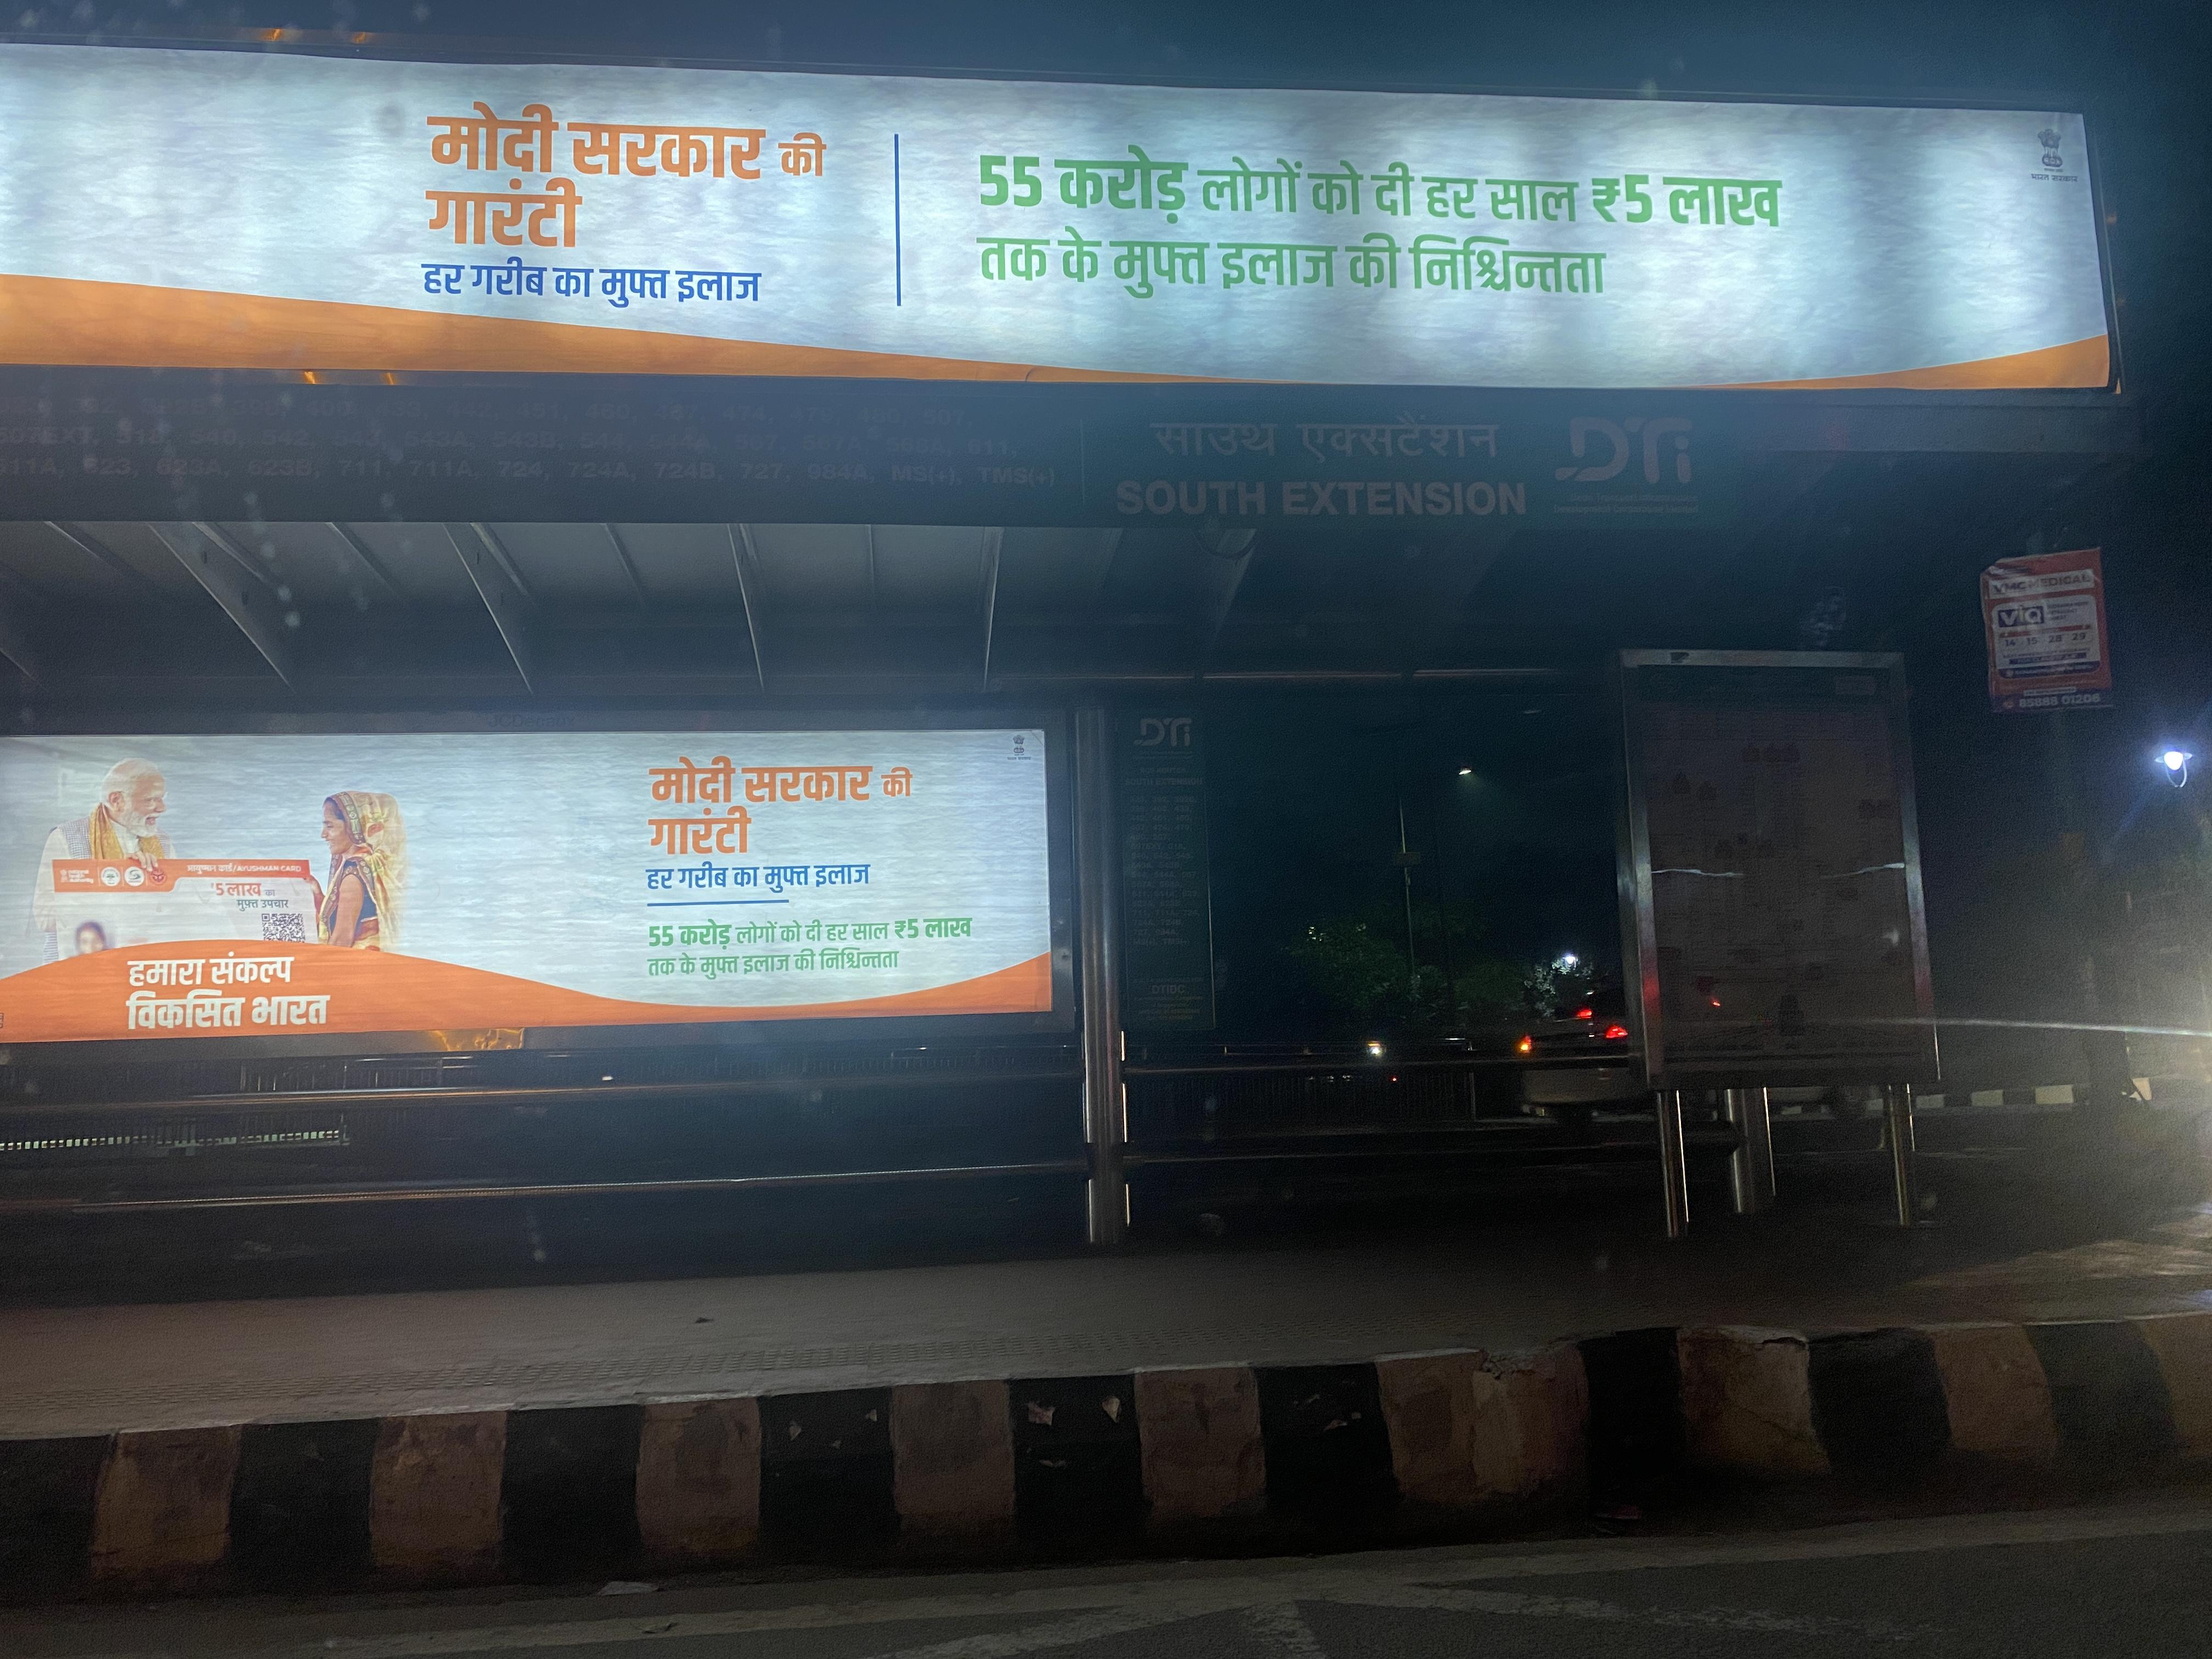Bus-stop-board: (0, 61, 2167, 538)
